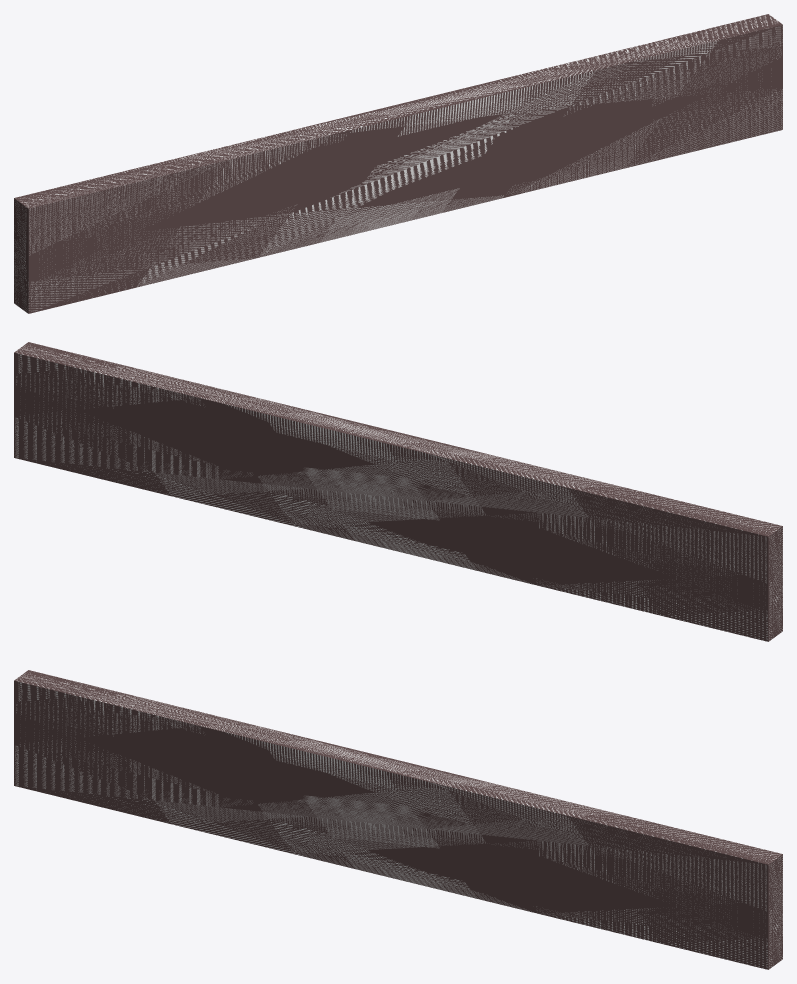
The model's file is original-25.obj.
3 renders of one model, top to bottom at view 1: azimuth 30°, elevation 25°; view 2: azimuth 150°, elevation 25°; view 3: azimuth 330°, elevation 25°, orthographic.
Visible parts, largest first — view 1: TB1F1/TB1F/mesh19/mesh19-geometry#mesh19-geometry; view 2: TB1F1/TB1F/mesh19/mesh19-geometry#mesh19-geometry; view 3: TB1F1/TB1F/mesh19/mesh19-geometry#mesh19-geometry.
Boxes of the visible parts, x1,y1,x2,y2 form: TB1F1/TB1F/mesh19/mesh19-geometry#mesh19-geometry: [14, 14, 782, 313]; TB1F1/TB1F/mesh19/mesh19-geometry#mesh19-geometry: [14, 342, 782, 641]; TB1F1/TB1F/mesh19/mesh19-geometry#mesh19-geometry: [14, 670, 782, 969].
Size of the model in its own units: 0.5691 by 0.0759 by 0.019.
